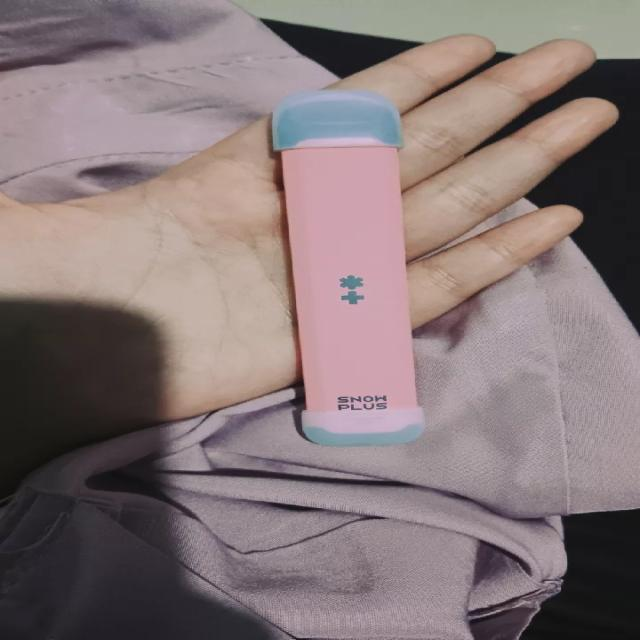Hazard: (266, 91, 424, 442)
